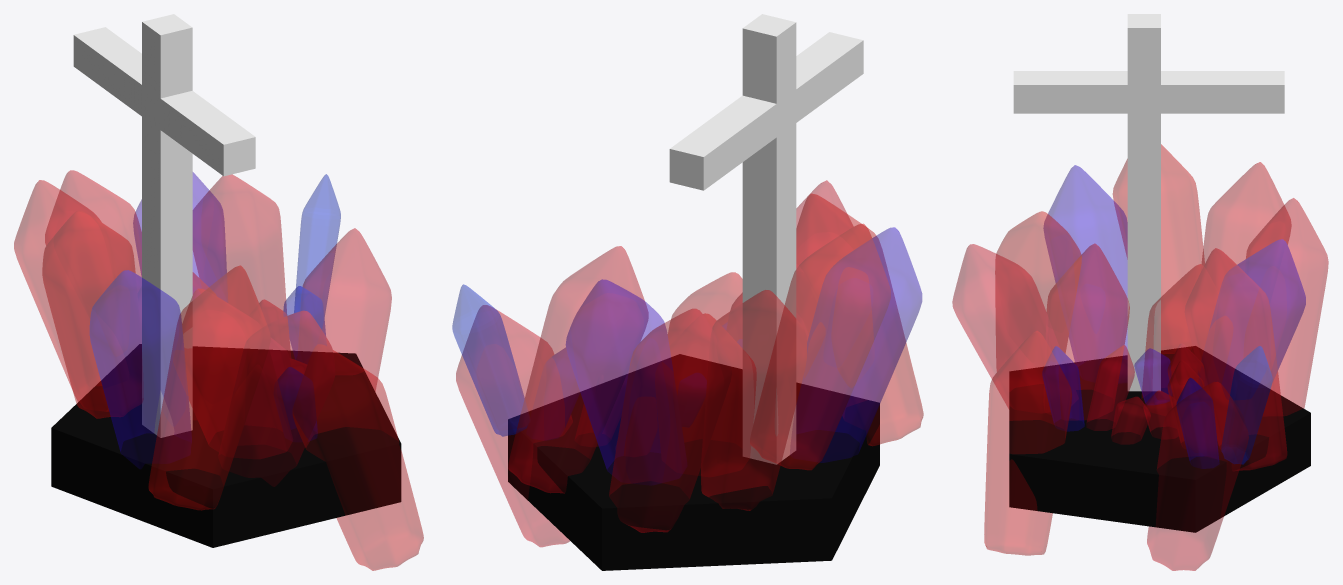
The model's file is Cross_Trial.glb.
The picture shows the model from 3 angles, left to right: view 1: azimuth 30°, elevation 25°; view 2: azimuth 150°, elevation 25°; view 3: azimuth 270°, elevation 25°; orthographic projection. The views are drawn at different scales.
Visible parts, largest first — view 1: Cylinder, Cube, Outside.002, Outside.013, Outside.010, Outside.001, Outside, Outside.017, Outside.014, Outside.016, Outside.012, Outside.011 (+5 smaller); view 2: Cylinder, Cube, Outside.010, Outside.017, Outside.011, Outside.016, Outside.001, Outside.009, Outside.012, Outside.002, IN, Outside.015 (+5 smaller); view 3: Cylinder, Cube, Outside.013, Outside.012, Outside.017, Outside.001, Outside, Outside.014, Outside.002, Outside.011, Outside.009, Outside.010 (+11 smaller).
Boxes of the visible parts, x1,y1,x2,y2 form: Cylinder: (51, 344, 401, 547); Cube: (73, 14, 255, 437); Outside.002: (148, 265, 270, 510); Outside.013: (293, 344, 423, 570); Outside.010: (42, 211, 143, 418); Outside.001: (90, 270, 191, 468); Outside: (219, 311, 334, 486); Outside.017: (193, 174, 286, 323); Outside.014: (182, 289, 286, 458); Outside.016: (14, 180, 117, 411); Outside.012: (301, 228, 391, 390); Outside.011: (45, 170, 141, 292); Cylinder: (508, 354, 879, 570); Cube: (669, 14, 863, 464); Outside.010: (750, 224, 890, 469); Outside.017: (508, 246, 648, 493); Outside.011: (609, 308, 731, 532); Outside.016: (701, 290, 806, 510); Outside.001: (796, 227, 921, 462); Outside.009: (566, 279, 672, 484); Outside.012: (456, 305, 572, 546); Outside.002: (796, 193, 923, 445); IN: (452, 284, 527, 436); Outside.015: (670, 313, 756, 475); Cylinder: (1009, 346, 1310, 532); Cube: (1013, 14, 1284, 391); Outside.013: (984, 331, 1071, 555); Outside.012: (1147, 382, 1248, 570); Outside.017: (1185, 248, 1286, 470); Outside.001: (1043, 165, 1127, 366); Outside: (952, 244, 1059, 408); Outside.014: (1046, 243, 1129, 419); Outside.002: (995, 211, 1081, 371); Outside.011: (1246, 198, 1328, 415); Outside.009: (1199, 239, 1305, 394); Outside.010: (1113, 144, 1204, 353).
Bounding box in the file's own units: 11.5 × 15.56 × 11.28.
